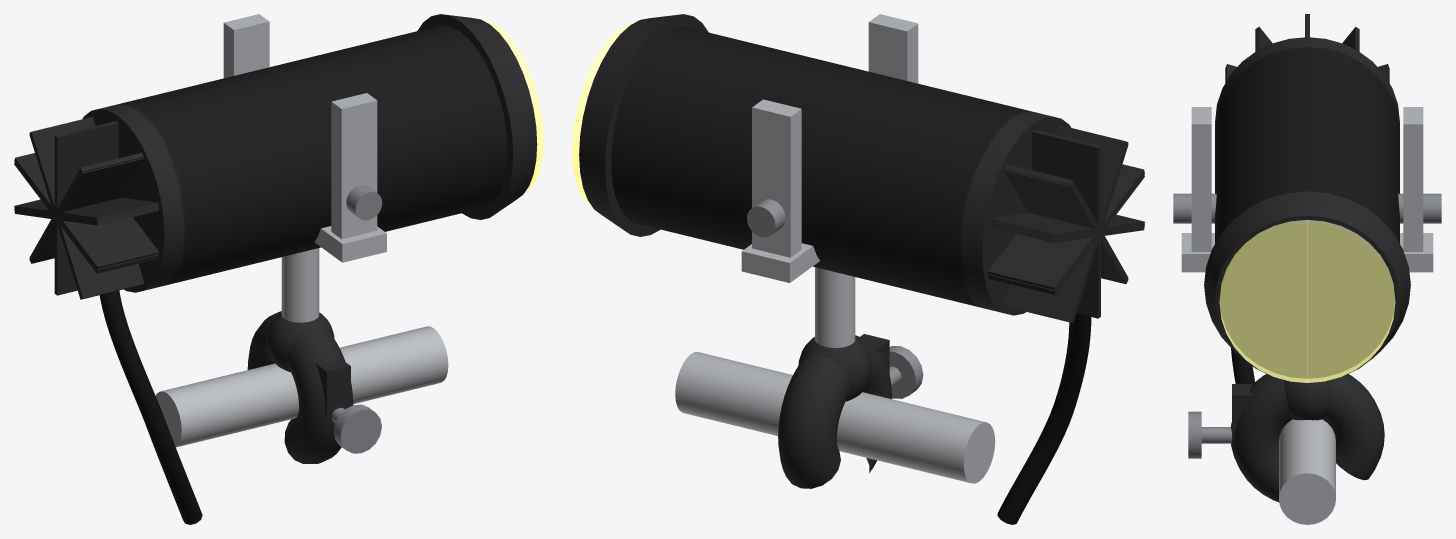
Rendered from exhibition-spotlight-417.glb.
The picture shows the model from 3 angles, left to right: view 1: azimuth 30°, elevation 25°; view 2: azimuth 150°, elevation 25°; view 3: azimuth 270°, elevation 25°; orthographic projection. The views are drawn at different scales.
Parts seen in each view (by area): view 1: head_housing, octanorm_profile_tube, head_rear_cap, head_front_rim, clamp_ring, yoke_arm_front, power_cable, heatsink_fin_1, heatsink_fin_4, heatsink_fin_5, heatsink_fin_7, mounting_stem (+11 smaller); view 2: head_housing, octanorm_profile_tube, head_rear_cap, clamp_ring, head_front_rim, yoke_arm_back, power_cable, heatsink_fin_1, heatsink_fin_3, heatsink_fin_2, heatsink_fin_10, mounting_stem (+12 smaller); view 3: head_front_rim, head_housing, lens, clamp_ring, octanorm_profile_tube, yoke_arm_back, yoke_arm_front, head_rear_cap, yoke_bridge, swivel_knuckle, pivot_bolt, clamp_screw_head (+3 smaller).
Boxes of the visible parts, bbox=[...] form: head_housing: bbox=[120, 25, 507, 285]; octanorm_profile_tube: bbox=[155, 326, 448, 447]; head_rear_cap: bbox=[82, 104, 186, 292]; head_front_rim: bbox=[417, 14, 537, 219]; clamp_ring: bbox=[247, 311, 353, 463]; yoke_arm_front: bbox=[331, 93, 377, 239]; power_cable: bbox=[99, 290, 202, 524]; heatsink_fin_1: bbox=[54, 121, 118, 295]; heatsink_fin_4: bbox=[14, 153, 159, 270]; heatsink_fin_5: bbox=[29, 117, 143, 297]; heatsink_fin_7: bbox=[29, 158, 143, 263]; mounting_stem: bbox=[281, 248, 319, 322]; head_housing: bbox=[611, 26, 1030, 307]; octanorm_profile_tube: bbox=[675, 352, 995, 483]; head_rear_cap: bbox=[958, 111, 1071, 315]; clamp_ring: bbox=[778, 335, 892, 488]; head_front_rim: bbox=[579, 14, 708, 236]; yoke_arm_back: bbox=[752, 99, 801, 257]; power_cable: bbox=[997, 313, 1091, 524]; heatsink_fin_1: bbox=[1032, 129, 1100, 318]; heatsink_fin_3: bbox=[988, 164, 1144, 291]; heatsink_fin_2: bbox=[1004, 125, 1128, 320]; heatsink_fin_10: bbox=[1004, 169, 1128, 284]; mounting_stem: bbox=[815, 267, 855, 347]; head_front_rim: bbox=[1204, 191, 1410, 382]; head_housing: bbox=[1215, 46, 1399, 243]; lens: bbox=[1219, 220, 1395, 382]; clamp_ring: bbox=[1231, 374, 1384, 502]; octanorm_profile_tube: bbox=[1279, 419, 1335, 524]; yoke_arm_back: bbox=[1403, 107, 1423, 251]; yoke_arm_front: bbox=[1191, 107, 1211, 251]; head_rear_cap: bbox=[1215, 37, 1399, 129]; yoke_bridge: bbox=[1181, 233, 1433, 272]; swivel_knuckle: bbox=[1283, 379, 1331, 420]; pivot_bolt: bbox=[1173, 193, 1441, 223]; clamp_screw_head: bbox=[1188, 411, 1201, 458].
Bounding box in the file's own units: 0.299 × 0.264 × 0.16.
